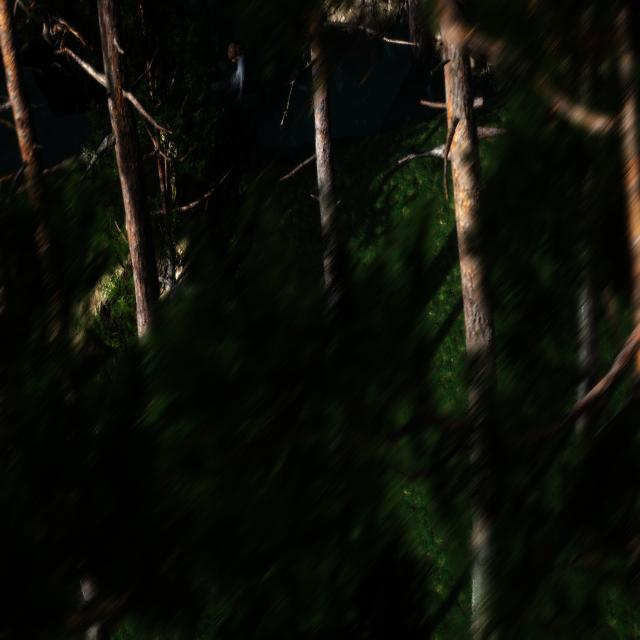Human: (200, 32, 252, 108)
